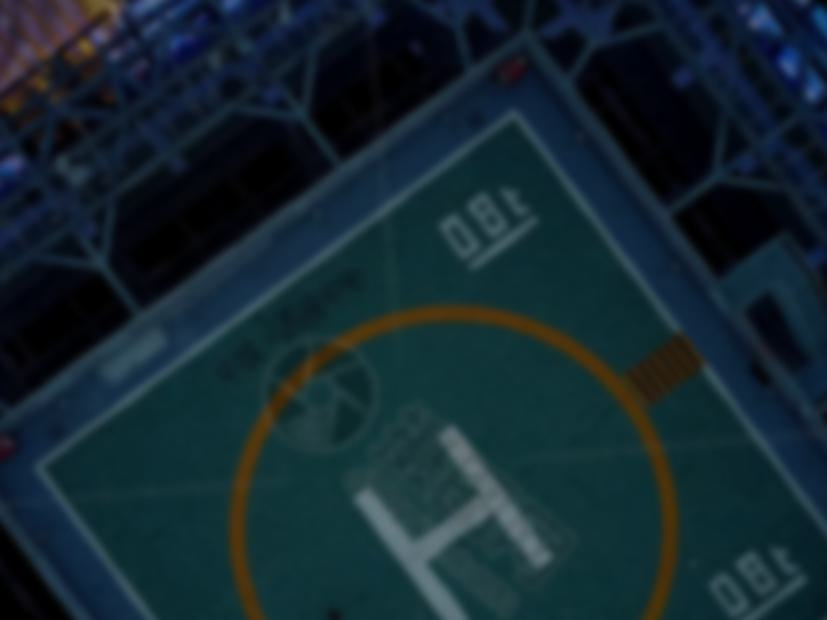Apron: (207, 297, 760, 620)
